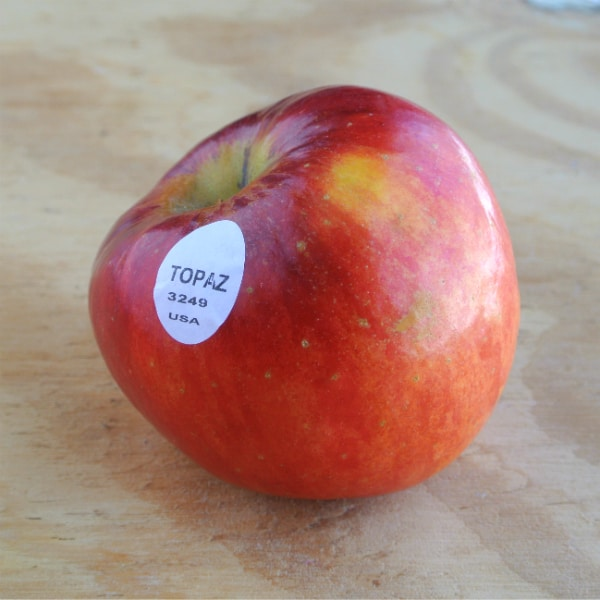apple: (86, 84, 523, 502)
